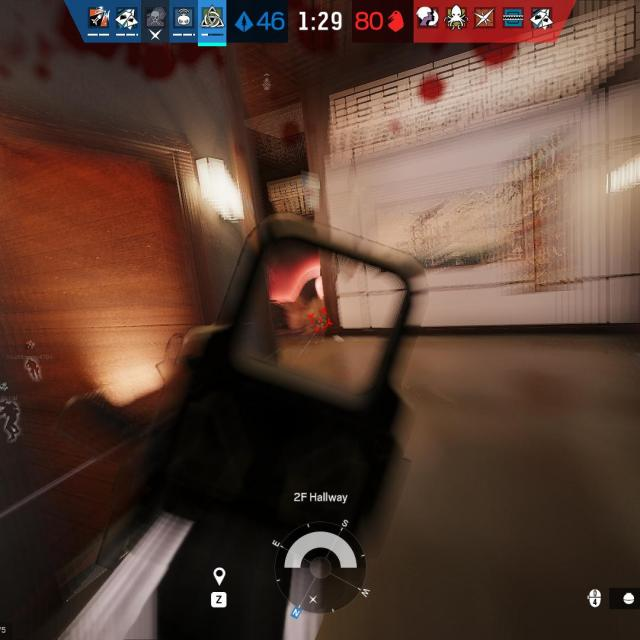Friend_label: (6, 339, 55, 360), (0, 380, 18, 400)
